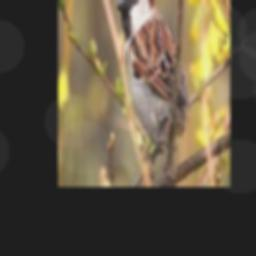Sparrow: (116, 0, 188, 162)
